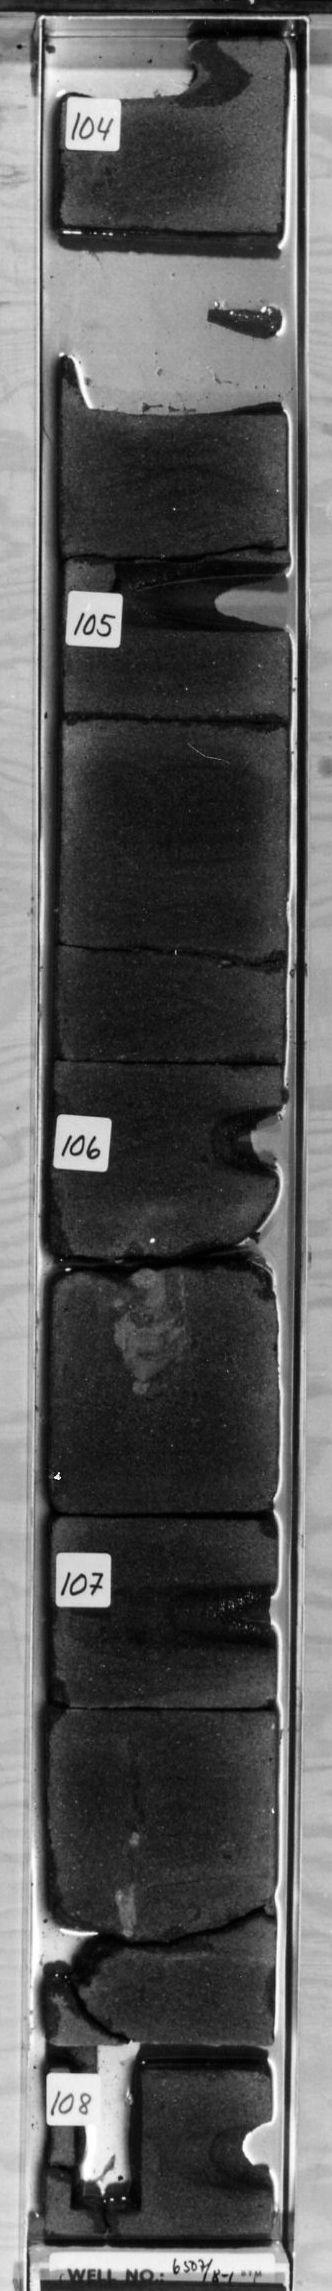hplug: (101, 554, 287, 646), (82, 1579, 271, 1660), (164, 2111, 269, 2193), (66, 58, 216, 108), (202, 1094, 276, 1181)
scal: (54, 207, 279, 317), (63, 319, 278, 418)
vplug: (64, 2043, 149, 2225)
